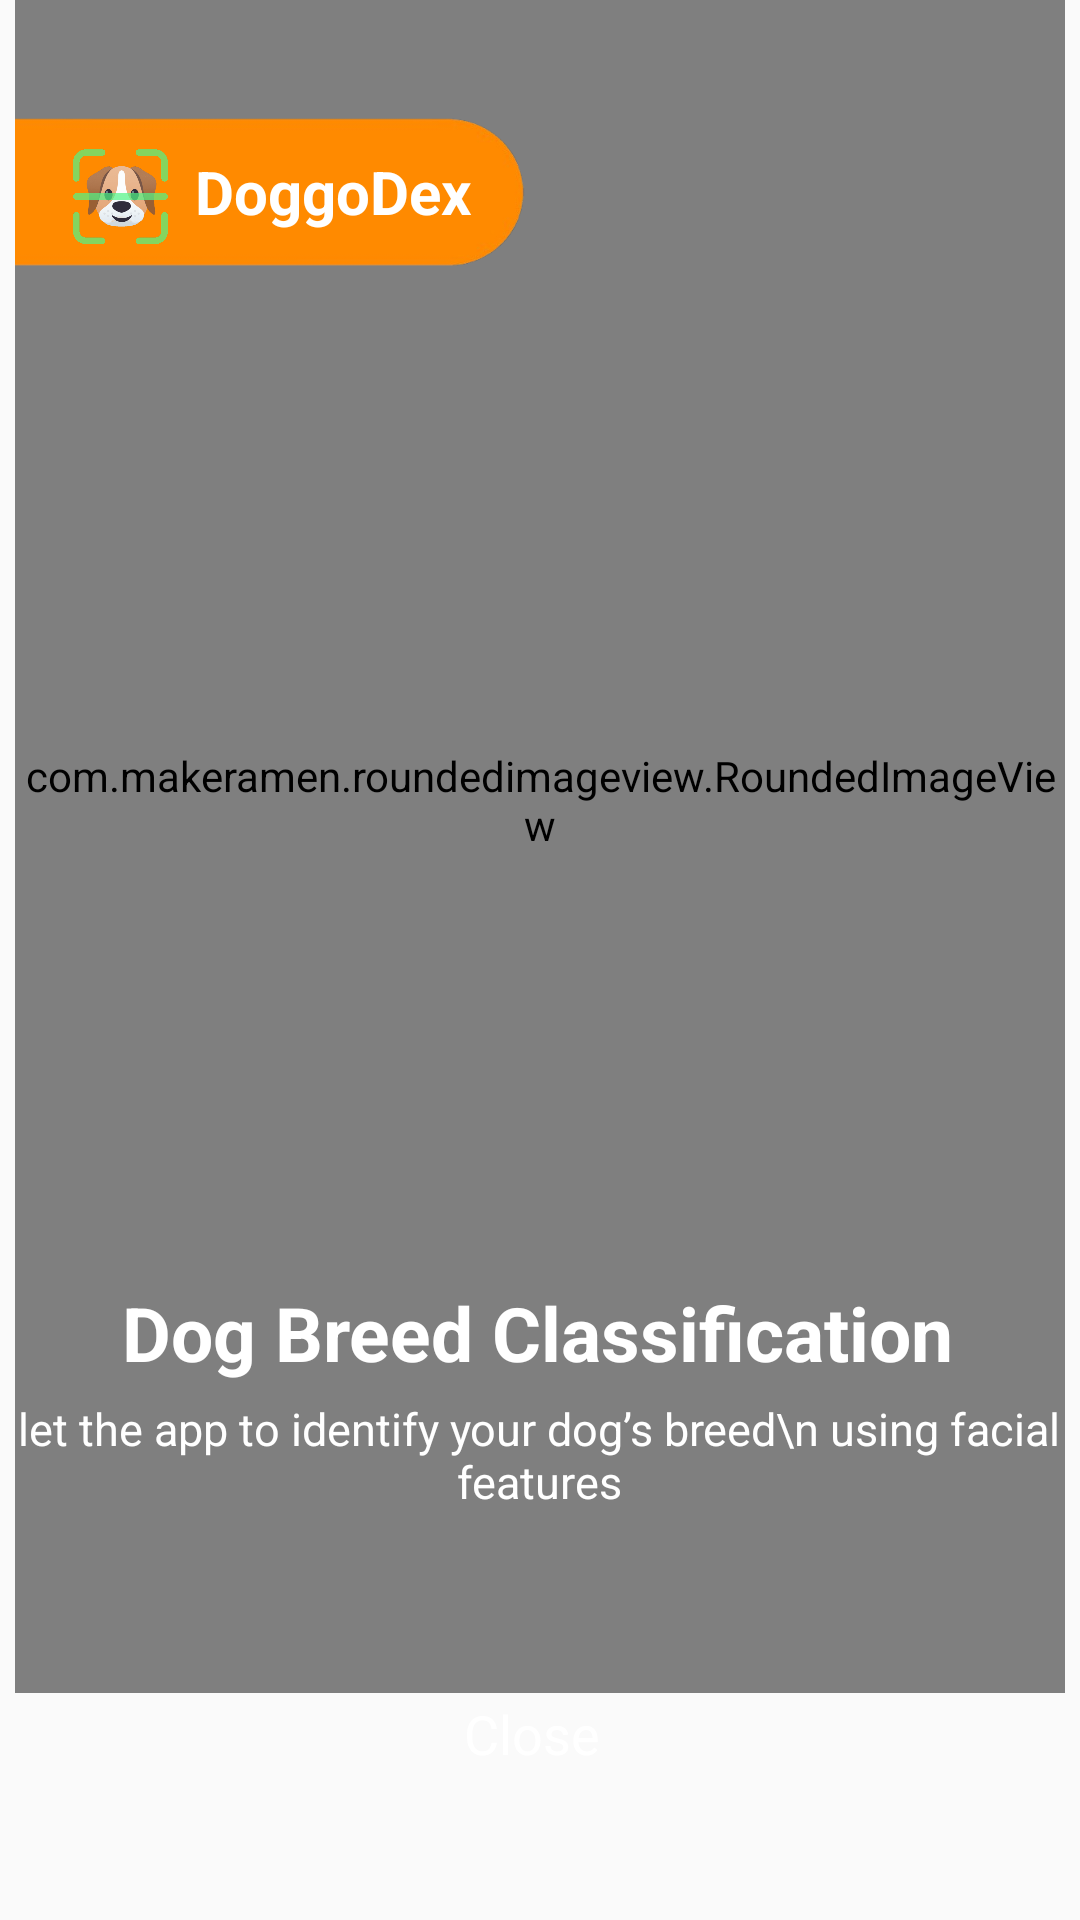

Icon click points for this 1080*1920 phone screenshot, format [x,y]:
newdog: [120,192]
